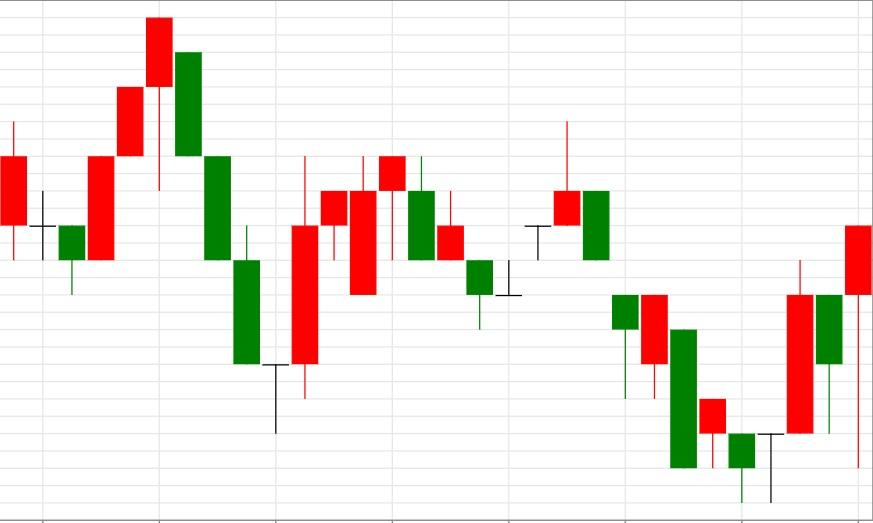bullish_engulfing_rise: (553, 121, 669, 400)
hanging_man_fall: (260, 155, 407, 434)
morning_star_rise: (145, 16, 319, 435)
shooting_star_fall: (465, 121, 582, 329)
three_black_crows_fall: (58, 17, 260, 366)
